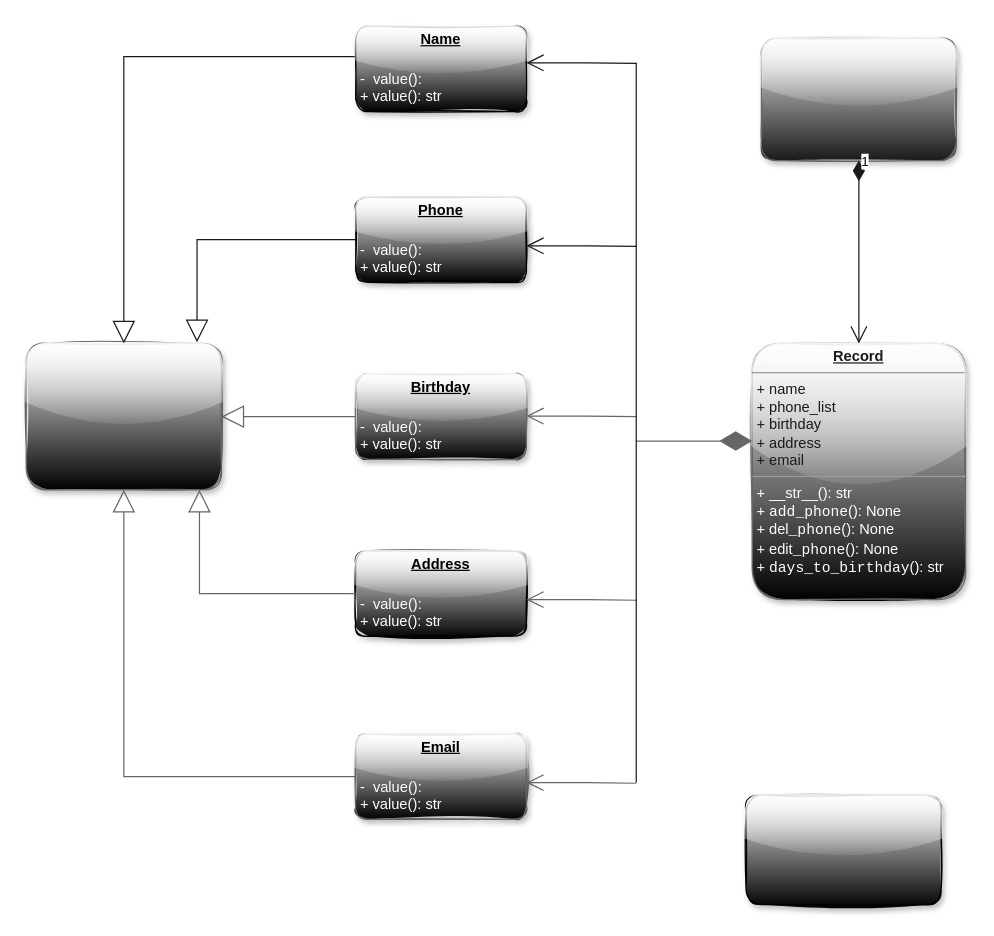
This 994x936 diagram has some shape labels left out. The shapes that lost their labels are listed below. From the top down, each one's centre as x and y in pixels, then its label:
At point (859, 100): "AddressBook + add_record(): None + iterator():".
At point (124, 417): "Field - value: None + value + __ repr__ (): str + __str__(): str +__eq__(): bool".
At point (844, 851): "InputError + func: None + __call__ (): str".
